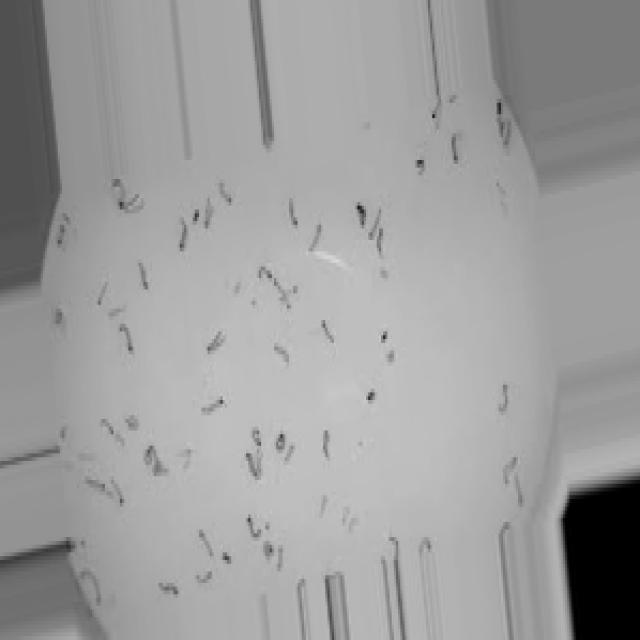larvas: (78, 568, 102, 605), (111, 174, 129, 210), (496, 102, 511, 144), (367, 207, 384, 242), (276, 283, 299, 307), (431, 94, 452, 120), (275, 277, 292, 309), (123, 192, 148, 211), (308, 220, 321, 255), (200, 527, 214, 557), (500, 457, 516, 482), (246, 514, 262, 538), (146, 448, 163, 470), (286, 198, 299, 226), (113, 478, 125, 508), (210, 334, 226, 356), (119, 323, 132, 350), (208, 328, 222, 353), (203, 199, 214, 230), (320, 322, 337, 342), (388, 538, 402, 562), (137, 262, 148, 291), (497, 385, 510, 409), (514, 473, 522, 512), (108, 302, 125, 320), (419, 537, 432, 560), (203, 398, 224, 412), (375, 227, 385, 256), (220, 182, 233, 204), (179, 218, 188, 249), (276, 540, 285, 571), (259, 263, 272, 284), (451, 132, 460, 162), (98, 282, 110, 304), (100, 419, 115, 436), (160, 582, 178, 596), (85, 478, 104, 491), (276, 344, 288, 364), (264, 537, 273, 563), (126, 416, 140, 432), (322, 429, 329, 460), (194, 570, 213, 581), (257, 451, 264, 480), (247, 453, 255, 478), (284, 445, 294, 464), (274, 434, 286, 449), (416, 160, 426, 177), (254, 427, 262, 447), (182, 450, 191, 466)
